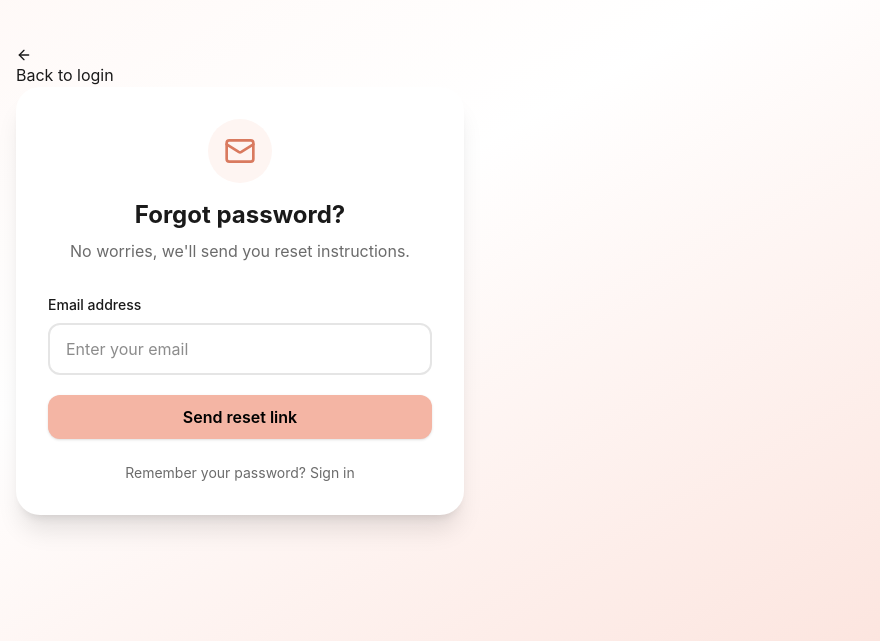
Test: ForgotPasswordPage › displays error message on failed reset request
This screenshot has width=880, height=641.
Type "unknown@example.com" into the field with placeholder "Enter your email" at (240, 349), box [48,323,432,375]
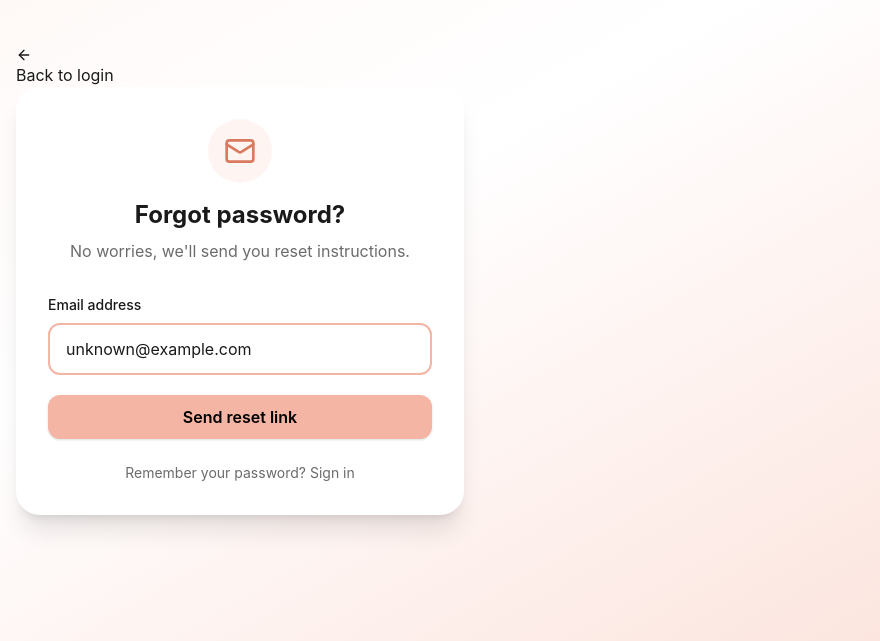
Click the button "Send reset link" at (240, 417), box [48,395,432,439]
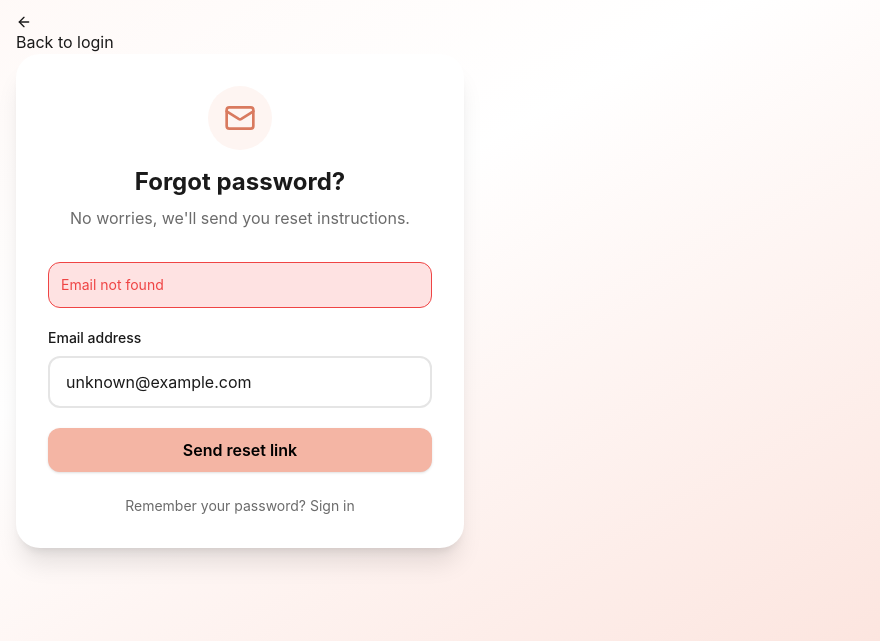
Now the text "Email not found" is shown, box [48,262,432,308]
